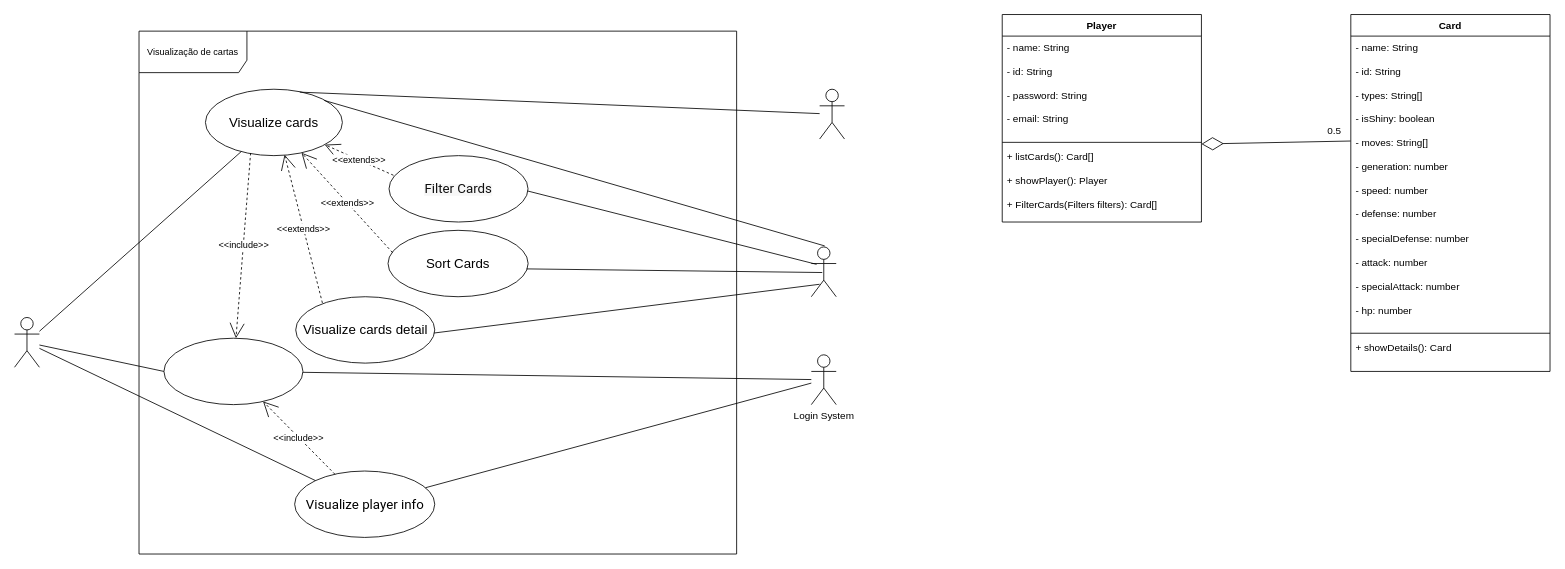
This 1565x569 diagram has some shape labels left out. The shapes that lost their labels are listed below. From the top down, each one's centre as x and y in pixels, then its label:
At point 832,113: "Card Distribution System".
At point 823,271: "POKEAPI".
At point 26,342: "User".
At point 233,371: "Login".
